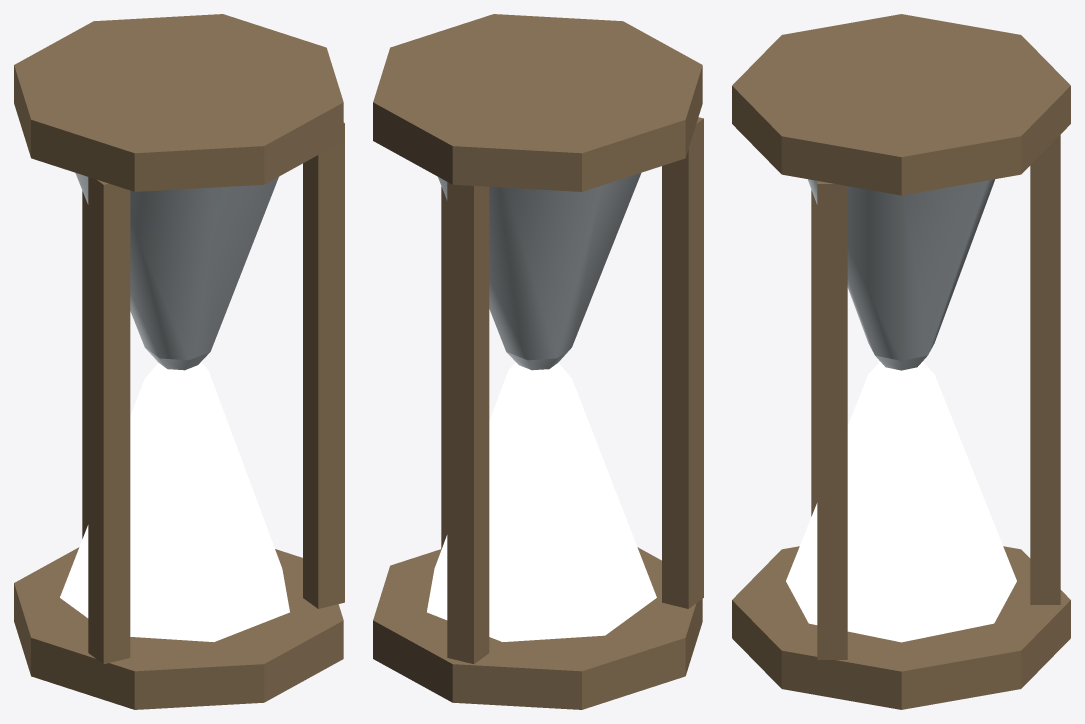
File: item_hourglass.glb
The picture shows the model from 3 angles, left to right: view 1: azimuth 30°, elevation 25°; view 2: azimuth 150°, elevation 25°; view 3: azimuth 270°, elevation 25°; orthographic projection.
Parts seen in each view (by area): view 1: Item_hourglass; view 2: Item_hourglass; view 3: Item_hourglass.
Boxes of the visible parts, bbox=[...] form: Item_hourglass: bbox=[14, 14, 344, 709]; Item_hourglass: bbox=[373, 14, 703, 709]; Item_hourglass: bbox=[732, 14, 1070, 709].
Size of the model in its own units: 0.2 by 0.36 by 0.2.
